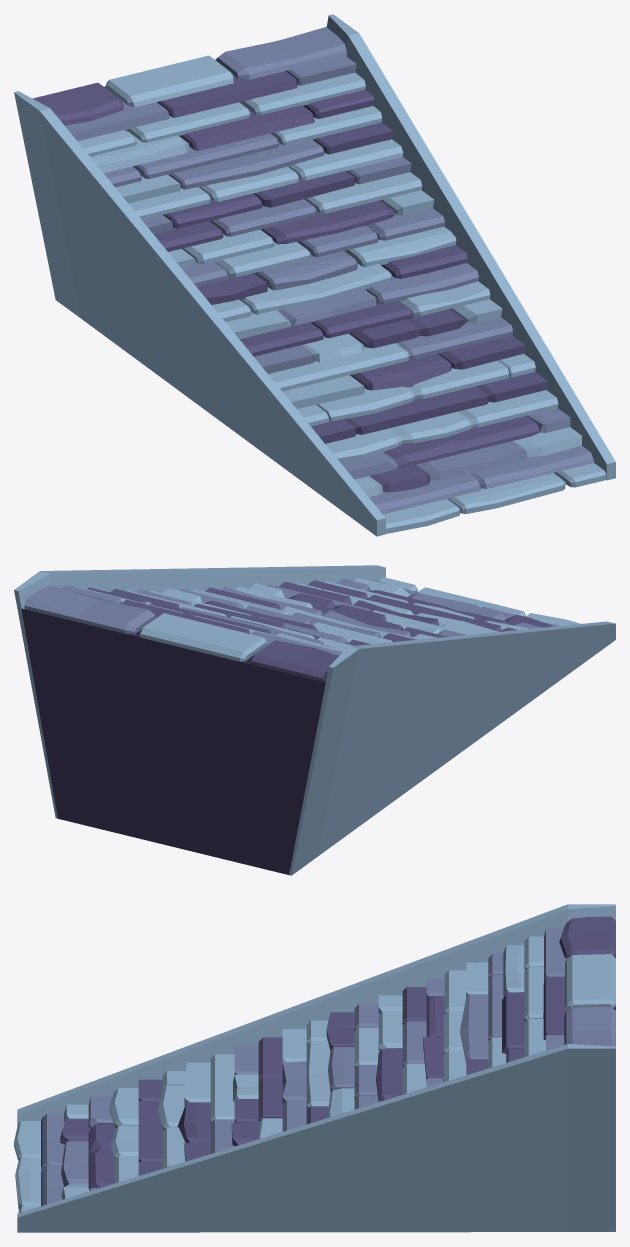
File: Wall_Base_Mid_Stairway_01.fbx
3 renders of one model, top to bottom at view 1: azimuth 30°, elevation 25°; view 2: azimuth 150°, elevation 25°; view 3: azimuth 270°, elevation 25°, orthographic. The views are drawn at different scales.
Visible parts, largest first — view 1: Wall_Base_Mid_Stairway_01; view 2: Wall_Base_Mid_Stairway_01; view 3: Wall_Base_Mid_Stairway_01.
Part boxes in pixels (x1,y1,x2,y2): Wall_Base_Mid_Stairway_01: (14, 14, 615, 536); Wall_Base_Mid_Stairway_01: (14, 565, 615, 875); Wall_Base_Mid_Stairway_01: (14, 904, 615, 1232).
Size of the model in its own units: 812 by 529 by 1429.
